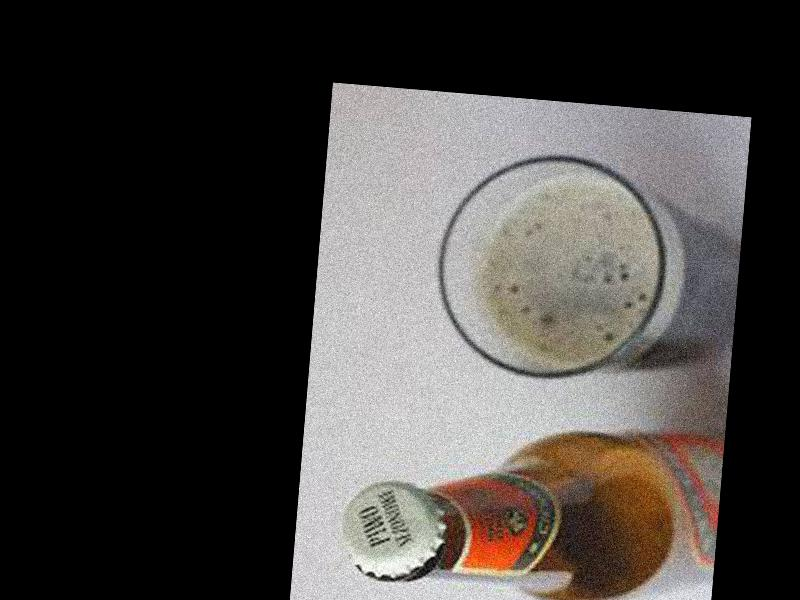Beer: (337, 402, 725, 600)
